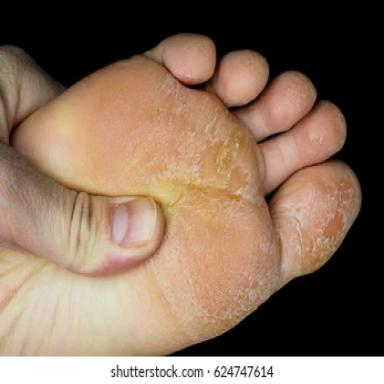eczema: (136, 70, 362, 339)
